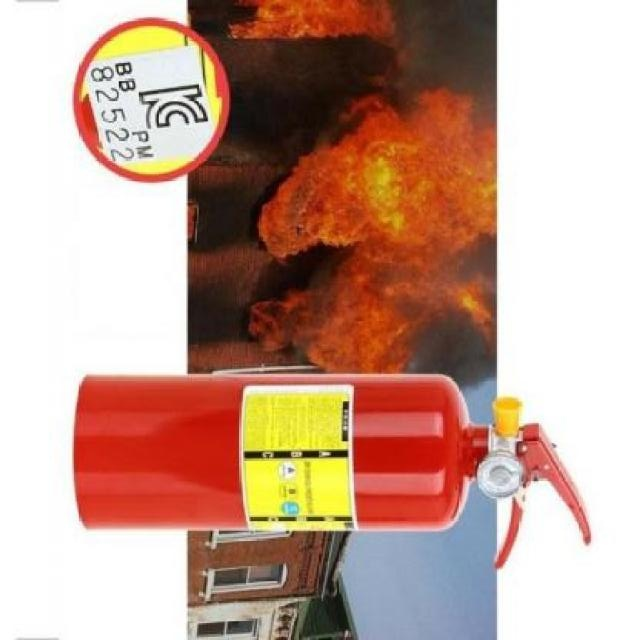fire extinguisher: (72, 373, 594, 570)
